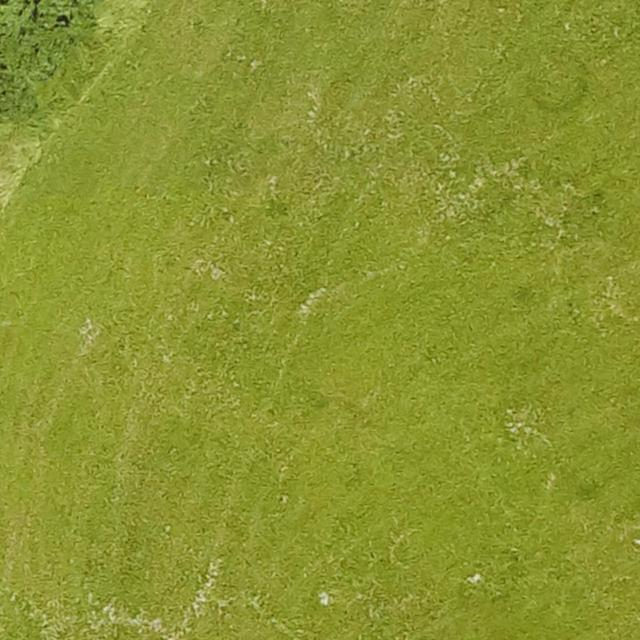tree: (0, 0, 87, 122)
